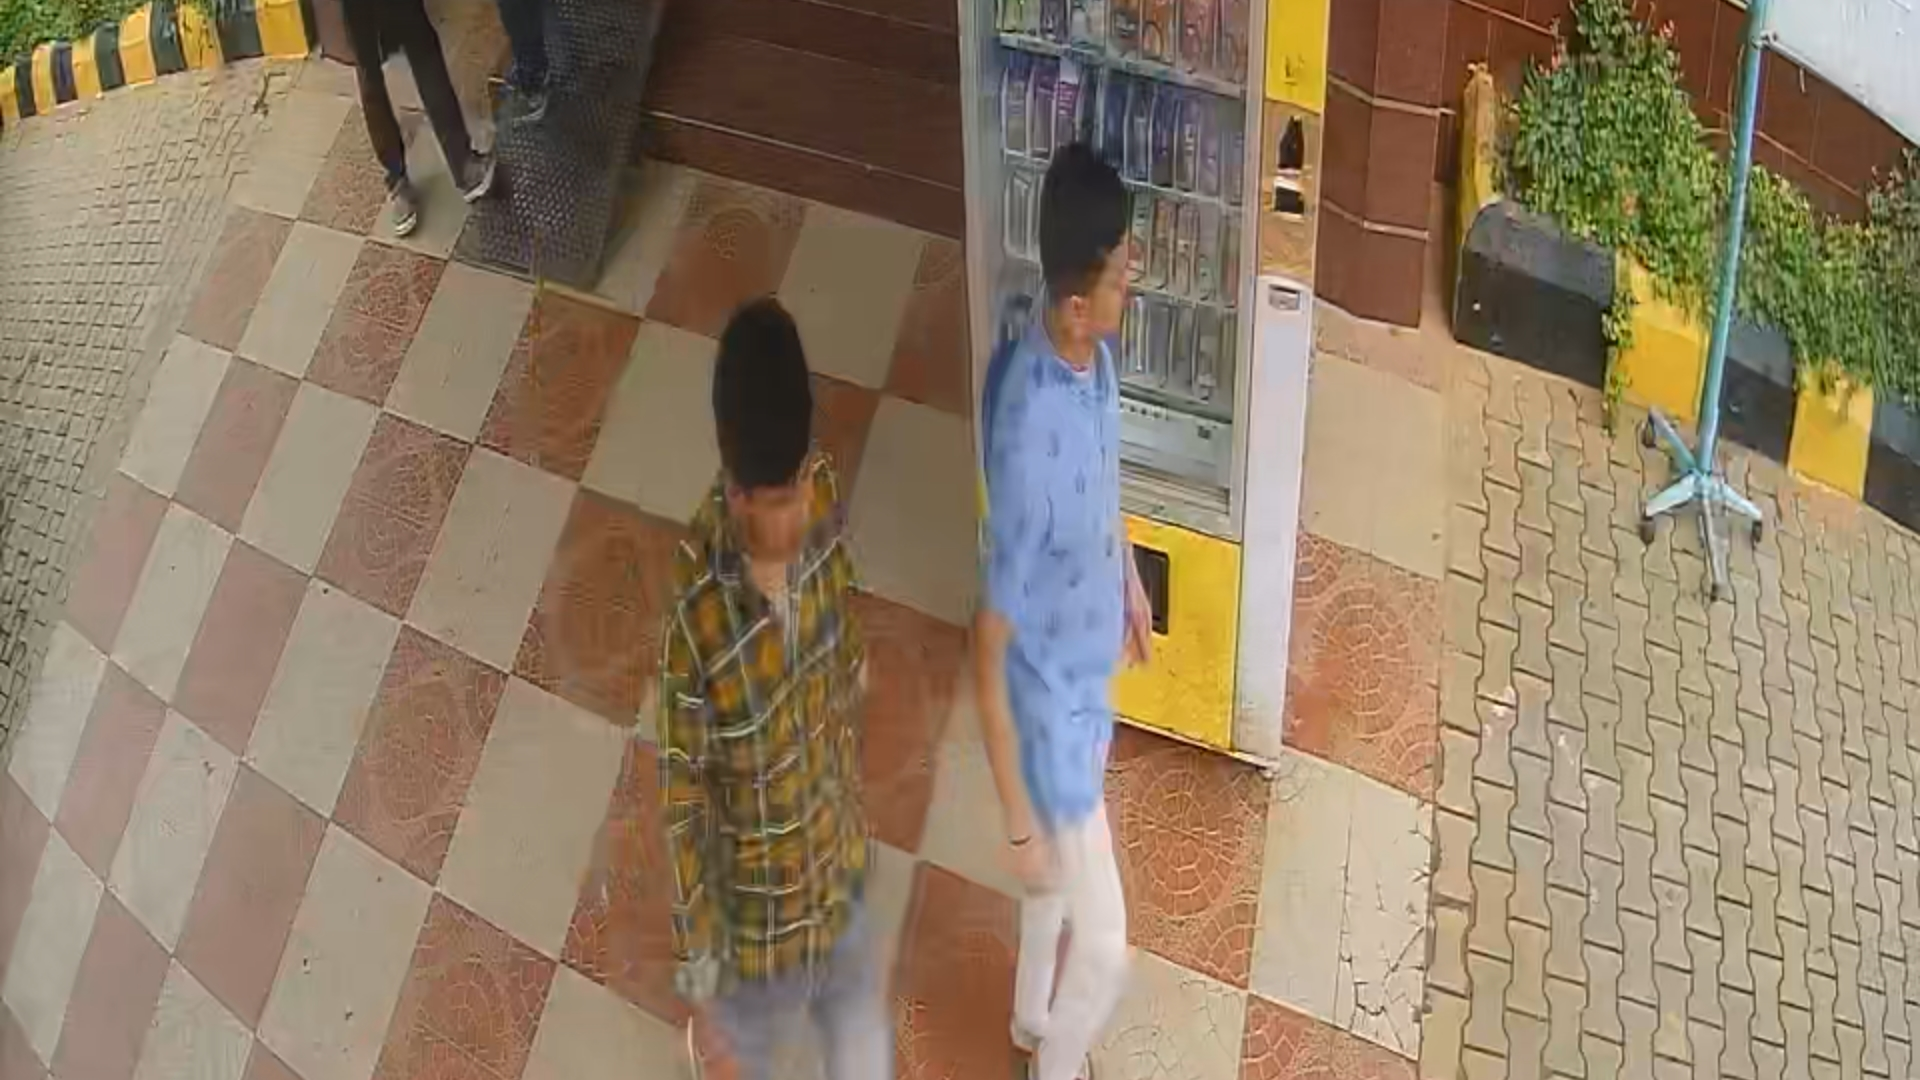intruder: (953, 133, 1160, 1080), (657, 262, 890, 1080)
